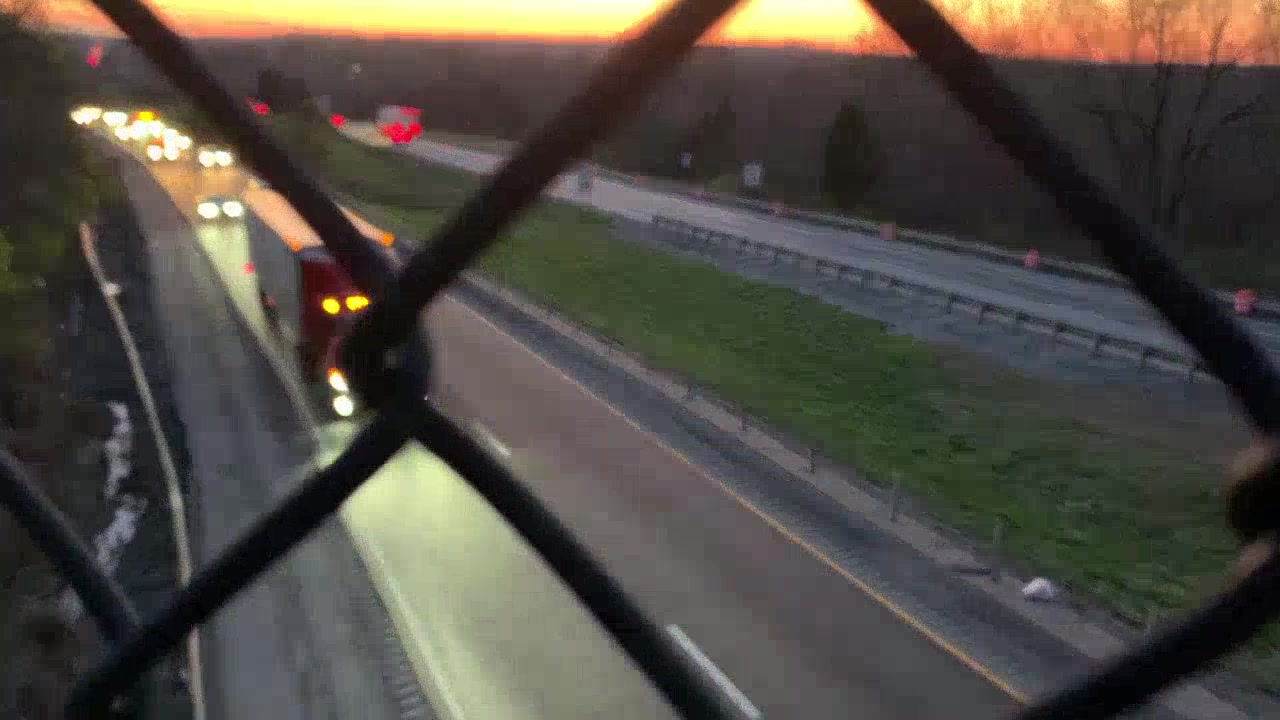heavyTruck: (242, 180, 396, 418)
